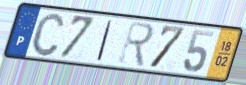5: (182, 28, 217, 74)
7: (60, 13, 99, 61), (149, 24, 187, 70)
C: (30, 11, 67, 58)
I: (95, 18, 114, 63)
R: (116, 20, 156, 70)
